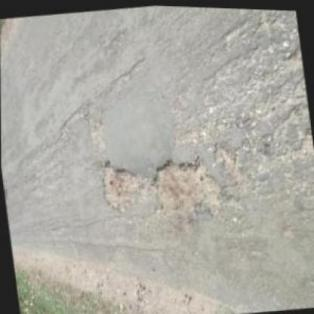Hueco: (149, 149, 230, 230), (95, 153, 150, 216)
